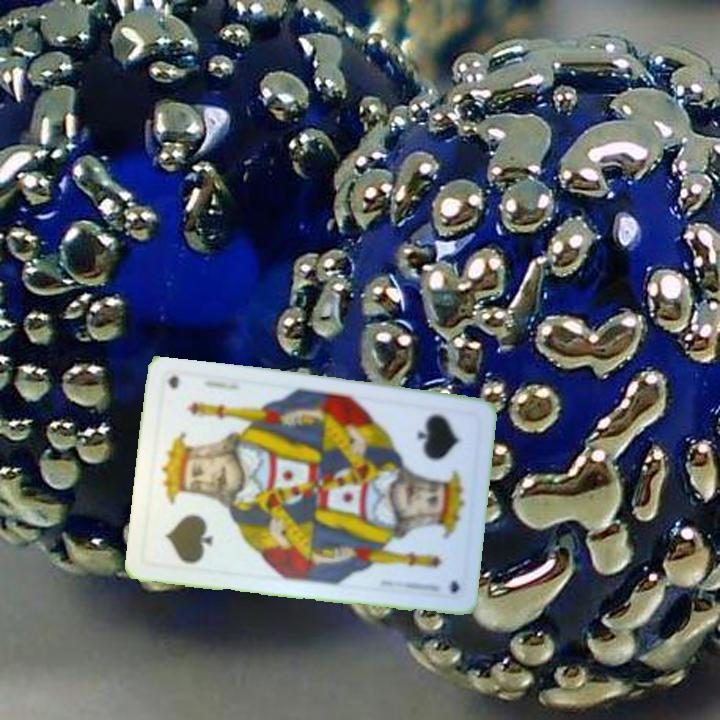s_k.png: (385, 397, 481, 505), (141, 466, 236, 574)
